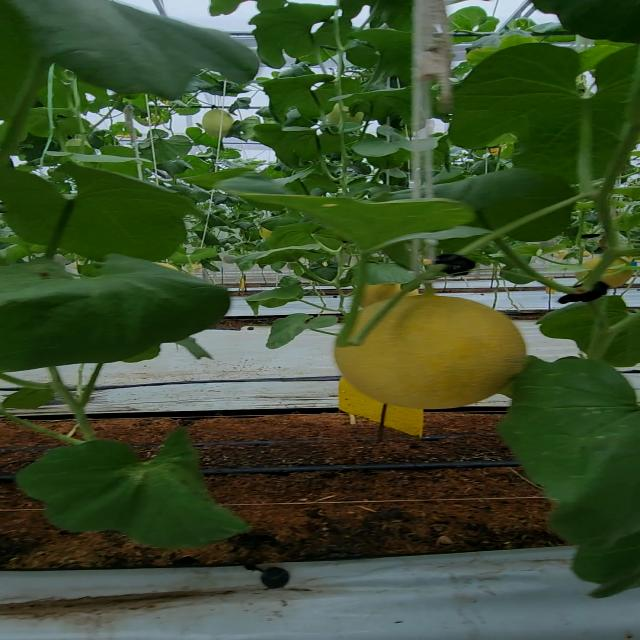Front-melon: (336, 295, 527, 411)
